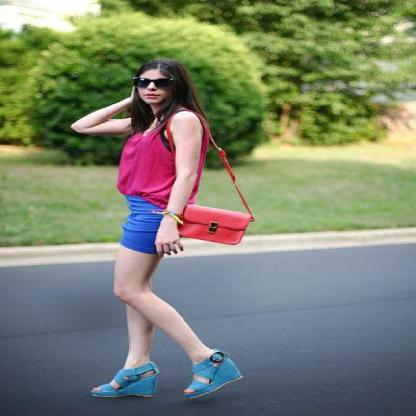bag: (177, 191, 253, 244)
shirt: (116, 131, 176, 209)
shoe: (92, 347, 242, 396)
shorts: (121, 195, 162, 252)
sunglass: (128, 67, 161, 91)
